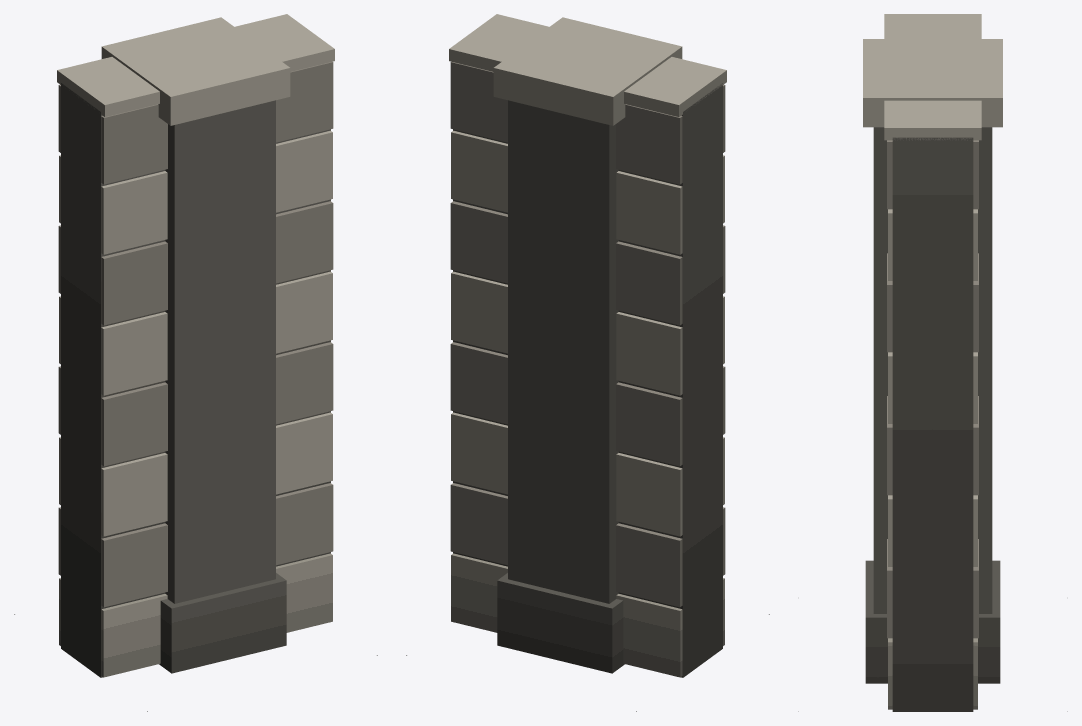
File: wall_stone_straight.glb
The picture shows the model from 3 angles, left to right: view 1: azimuth 30°, elevation 25°; view 2: azimuth 150°, elevation 25°; view 3: azimuth 270°, elevation 25°; orthographic projection.
Bounding box in the file's own units: 1 × 2.4 × 1.
Materials: 1 (1 with a texture image).
